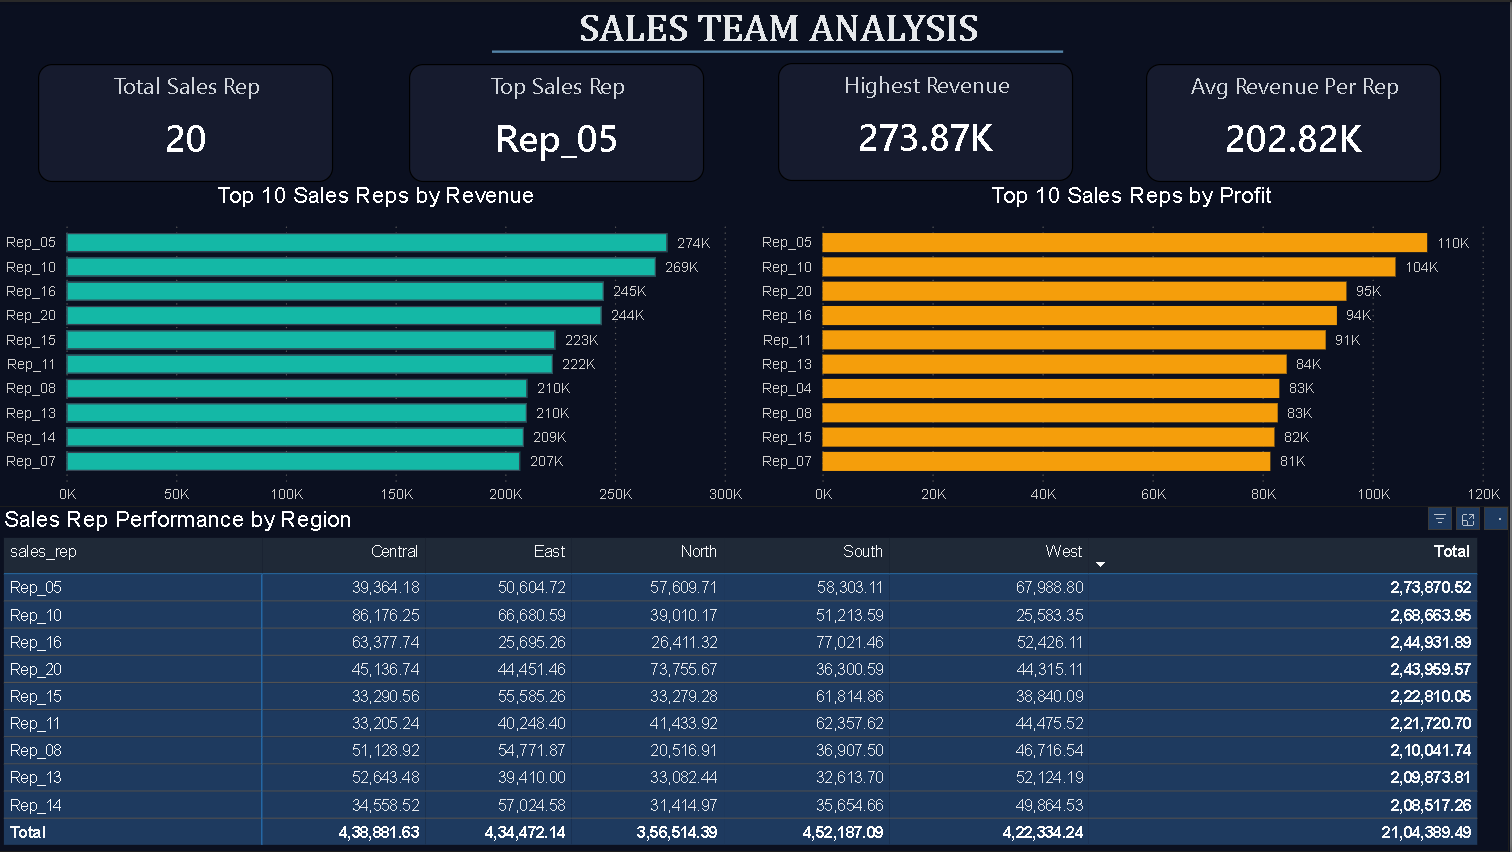

The page's visual inventory and layout, read from the dashboard file:
{"tool":"powerbi","page":{"name":"Sales Team Analysis","canvas":[1280,720],"ordinal":2},"visuals":[{"type":"clusteredBarChart","title":"Top 10 Sales Reps by Revenue","fields":{"Category":["sales_data_clean.sales_rep"],"Y":["DateTable.Total Revenue"]},"box":[0,152.8,640.5,281.3],"z":0},{"type":"clusteredBarChart","title":"Top 10 Sales Reps by Profit","fields":{"Category":["sales_data_clean.sales_rep"],"Y":["DateTable.Total Profit"]},"box":[640.5,152.8,639.5,281.3],"z":1000},{"type":"card","title":"Top Sales Rep","fields":{"Values":["DateTable.Top Rep Name"]},"box":[348.5,52.6,250.2,100.3],"z":2000},{"type":"card","title":"Highest Revenue","fields":{"Values":["DateTable.Top Rep Revenue"]},"box":[660.9,51.6,250.2,100.3],"z":3000},{"type":"card","title":"Total Sales Rep","fields":{"Values":["DateTable.Total Sales Reps"]},"box":[34.1,52.6,250.2,100.3],"z":4000},{"type":"card","title":"Avg Revenue Per Rep","fields":{"Values":["DateTable.Avg Revenue Per Rep"]},"box":[972.4,52.6,250.2,100.3],"z":5000},{"type":"textbox","box":[435.1,0,451.7,56.5],"z":6000},{"type":"pivotTable","title":"Sales Rep Performance by Region","fields":{"Rows":["sales_data_clean.sales_rep"],"Columns":["sales_data_clean.region"],"Values":["DateTable.💰 Total Revenue"]},"box":[0,427.3,1280,293],"z":7000},{"type":"shape","box":[418.6,28.2,483.8,28.2],"z":7001}]}

Visuals, with their boxes in screenshot pixels (x1, y1, x2, y2), scaled from the page's 1280x720 canvas onto the 1512x852 screenshot:
"Top 10 Sales Reps by Revenue" clusteredBarChart: crop(0, 181, 757, 514)
"Top 10 Sales Reps by Profit" clusteredBarChart: crop(757, 181, 1511, 514)
"Top Sales Rep" card: crop(412, 62, 707, 181)
"Highest Revenue" card: crop(781, 61, 1076, 180)
"Total Sales Rep" card: crop(40, 62, 336, 181)
"Avg Revenue Per Rep" card: crop(1149, 62, 1444, 181)
textbox: crop(514, 0, 1048, 67)
"Sales Rep Performance by Region" pivotTable: crop(0, 506, 1511, 851)
shape: crop(494, 33, 1066, 67)
